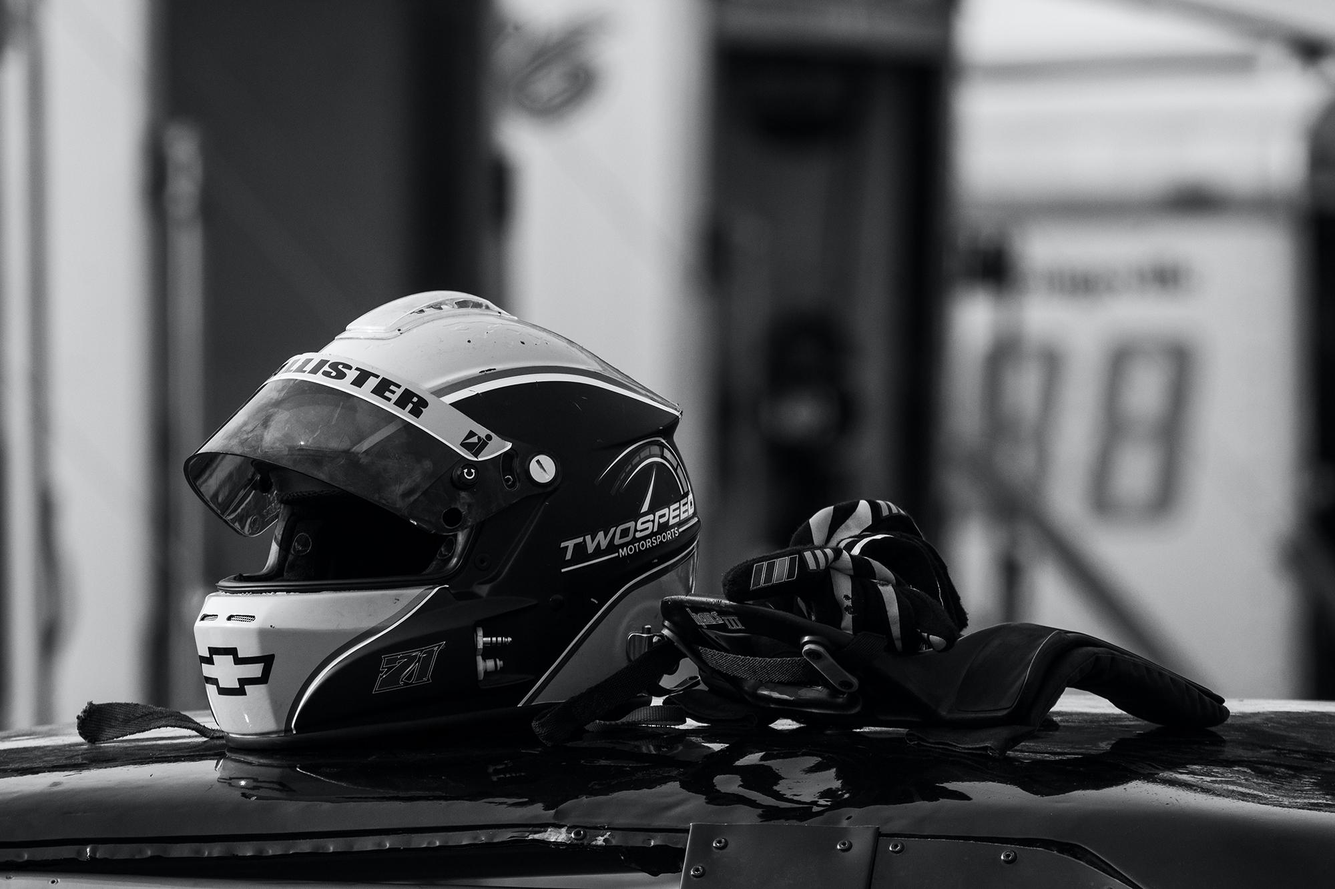helmet: (180, 286, 704, 770)
